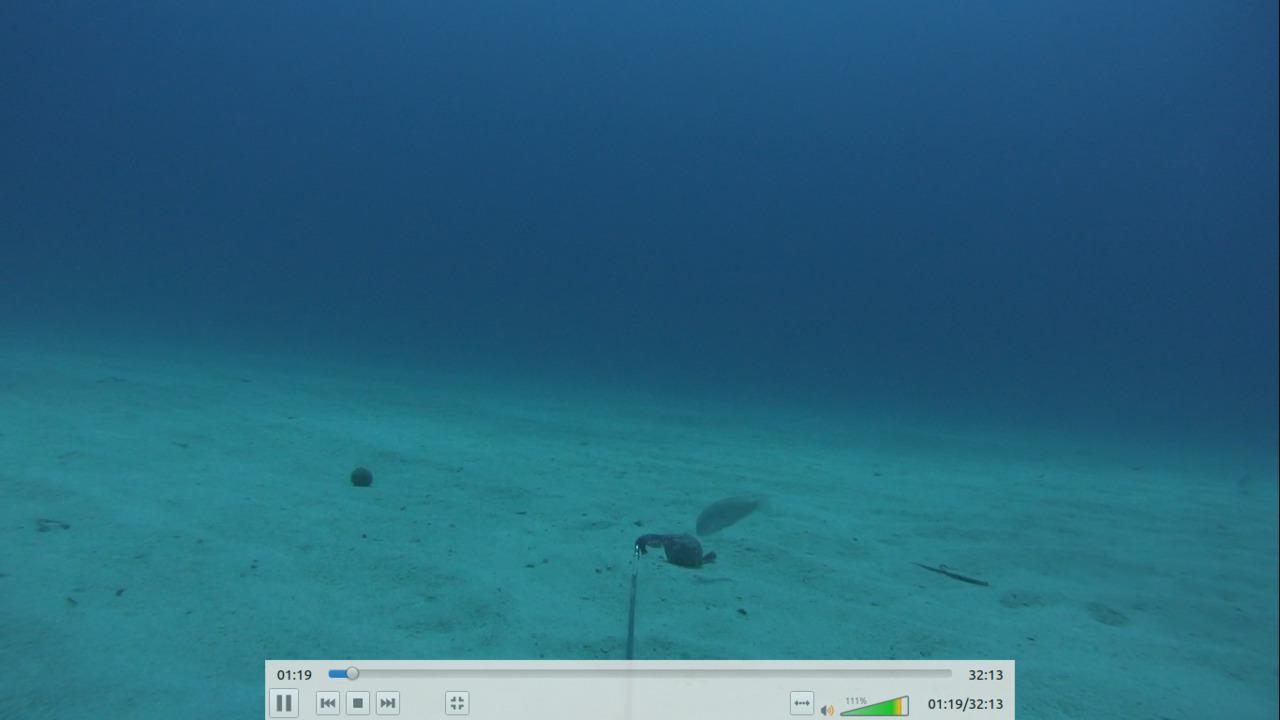raor: (690, 490, 775, 537)
